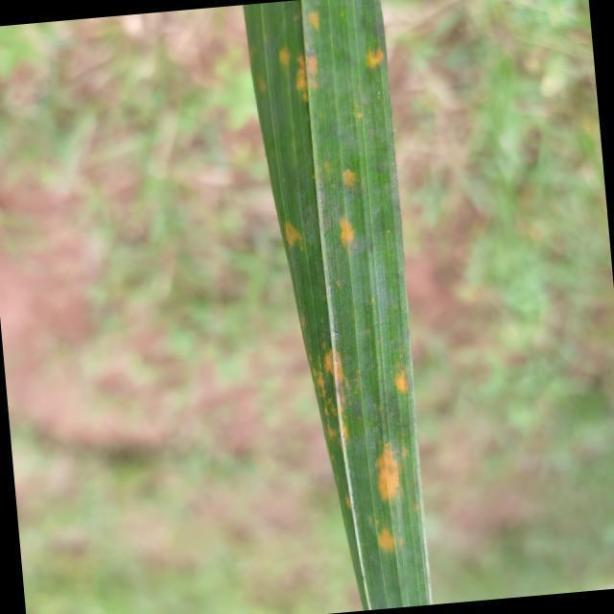Kalium: (242, 0, 430, 614)
